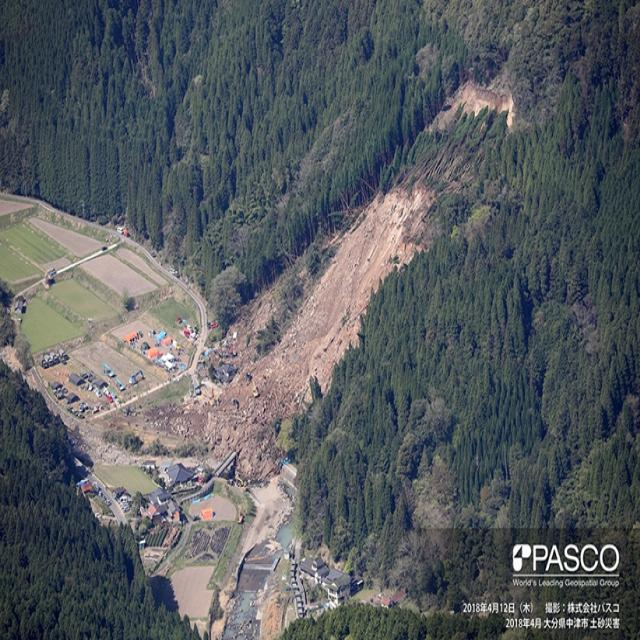Debris-flow: (250, 180, 438, 418), (426, 81, 514, 132), (210, 392, 260, 476)
